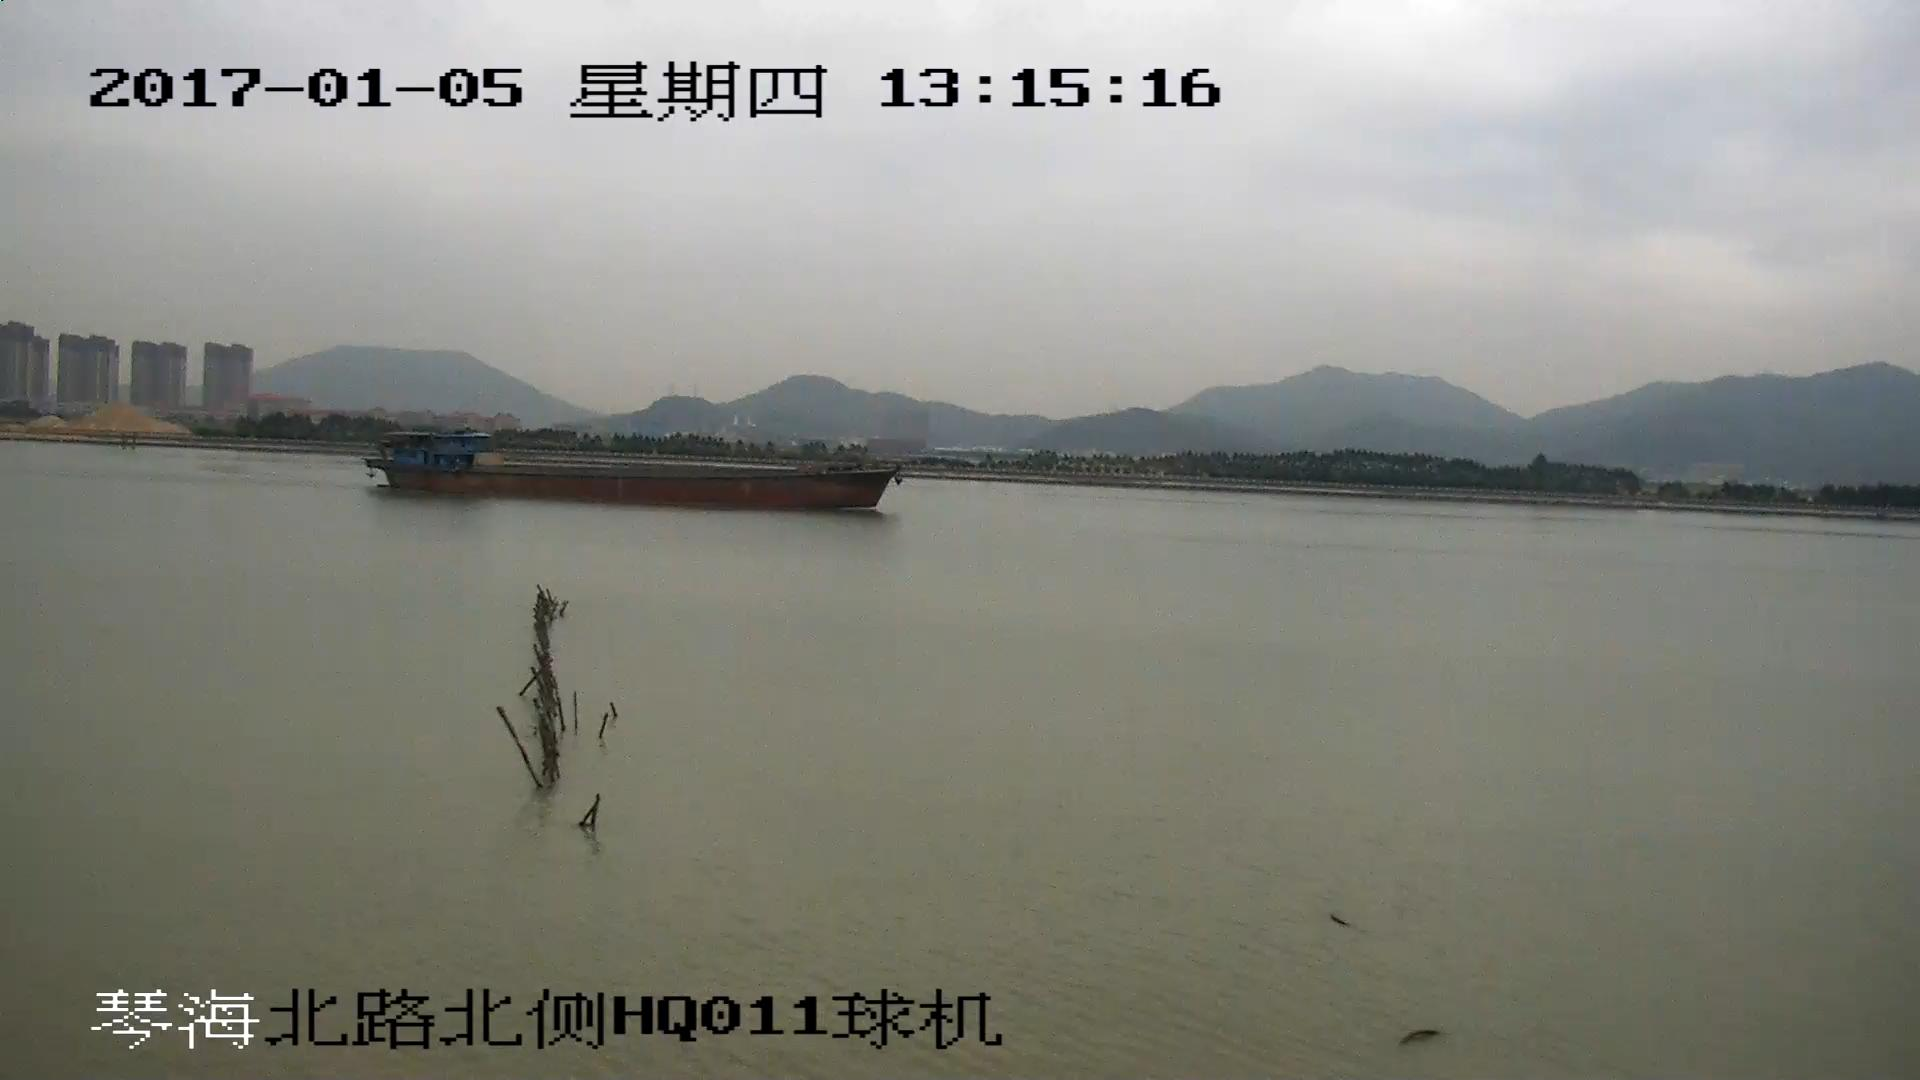bulk cargo carrier: (365, 427, 901, 511)
